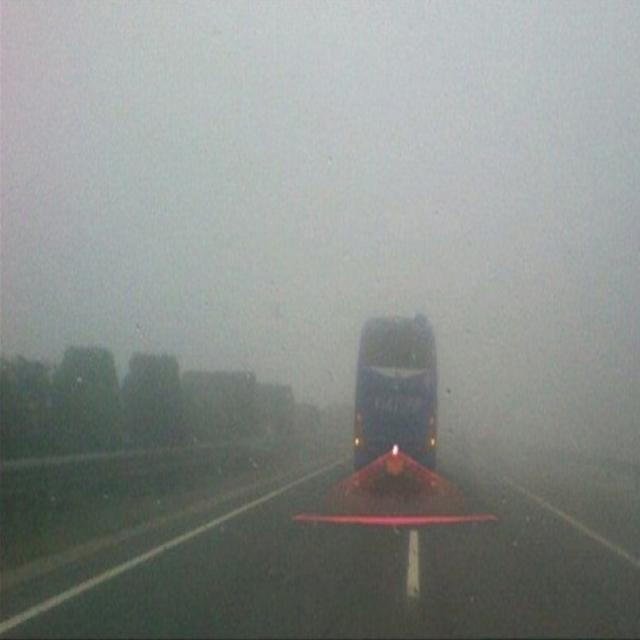truck: (352, 306, 438, 504)
